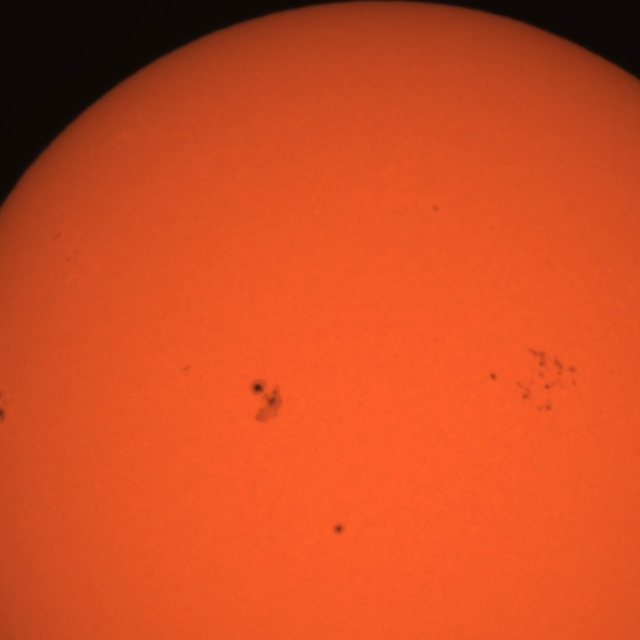sunspot: (532, 350, 578, 394), (516, 374, 558, 415), (250, 378, 283, 426), (331, 522, 347, 538), (0, 402, 8, 427), (51, 230, 63, 245), (180, 363, 193, 376), (430, 202, 441, 214), (488, 371, 498, 383)
